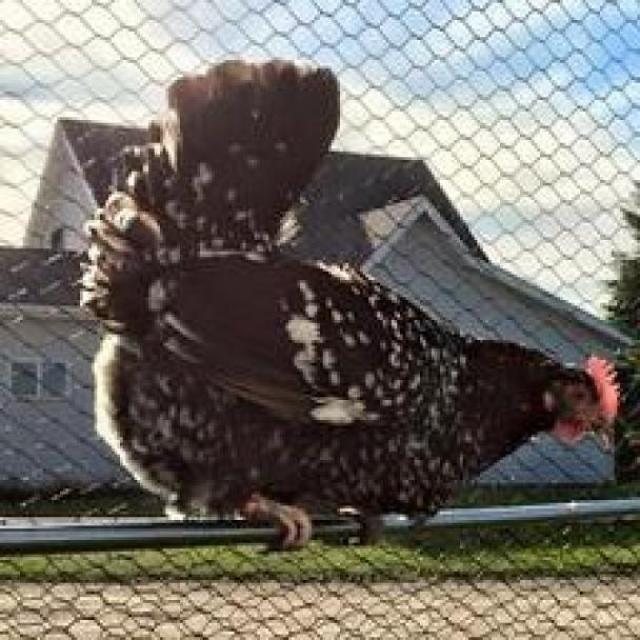Chicken: (24, 47, 636, 591)
